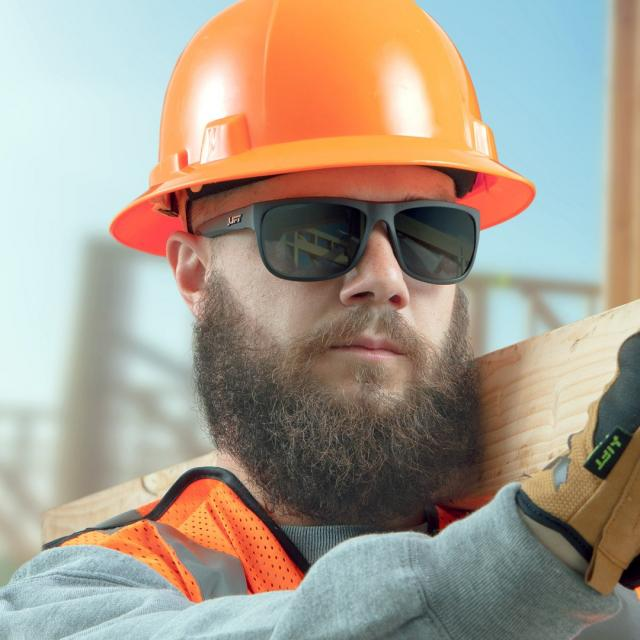Reflective-Jacket: (26, 475, 640, 639)
Safety-Helmet: (117, 2, 538, 236)
